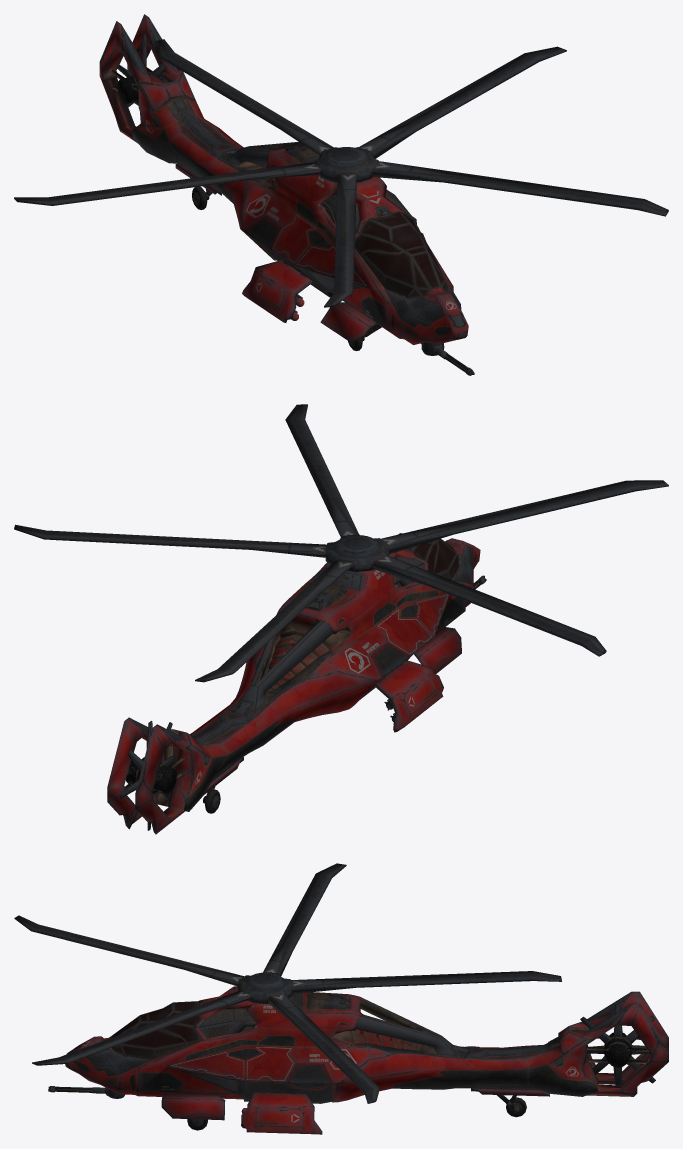
The model's file is Helecoter.fbx.
The picture shows the model from 3 angles, top to bottom: view 1: azimuth 30°, elevation 25°; view 2: azimuth 150°, elevation 25°; view 3: azimuth 270°, elevation 25°; orthographic projection. The views are drawn at different scales.
Parts seen in each view (by area): view 1: Helicopter, Fan; view 2: Helicopter, Fan; view 3: Helicopter, Fan.
Boxes of the visible parts, bbox=[...] form: Helicopter: bbox=[99, 14, 474, 375]; Fan: bbox=[14, 39, 668, 307]; Helicopter: bbox=[107, 533, 486, 834]; Fan: bbox=[14, 404, 668, 682]; Helicopter: bbox=[48, 986, 668, 1134]; Fan: bbox=[14, 863, 561, 1103].
Size of the model in its own units: 569 by 658 by 153.
Materials: 1 (1 with a texture image).
